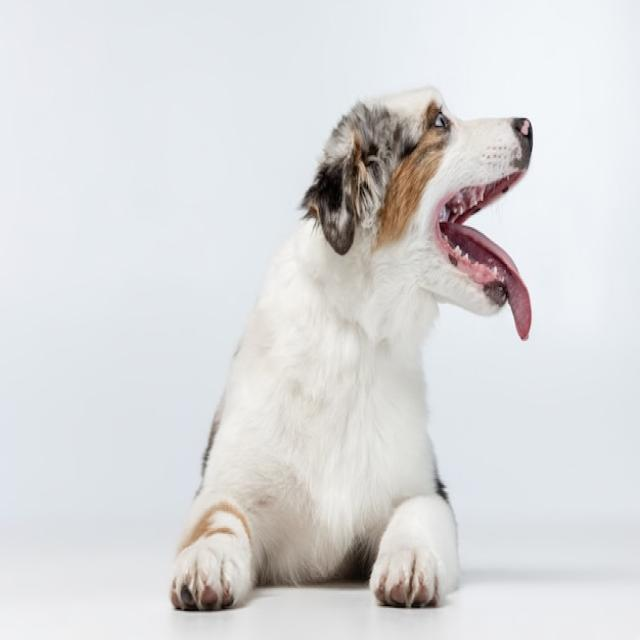Dog: (170, 84, 532, 614)
